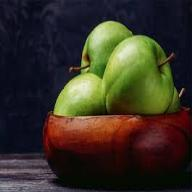apple: (106, 42, 174, 120), (76, 20, 134, 78), (54, 70, 104, 120)
